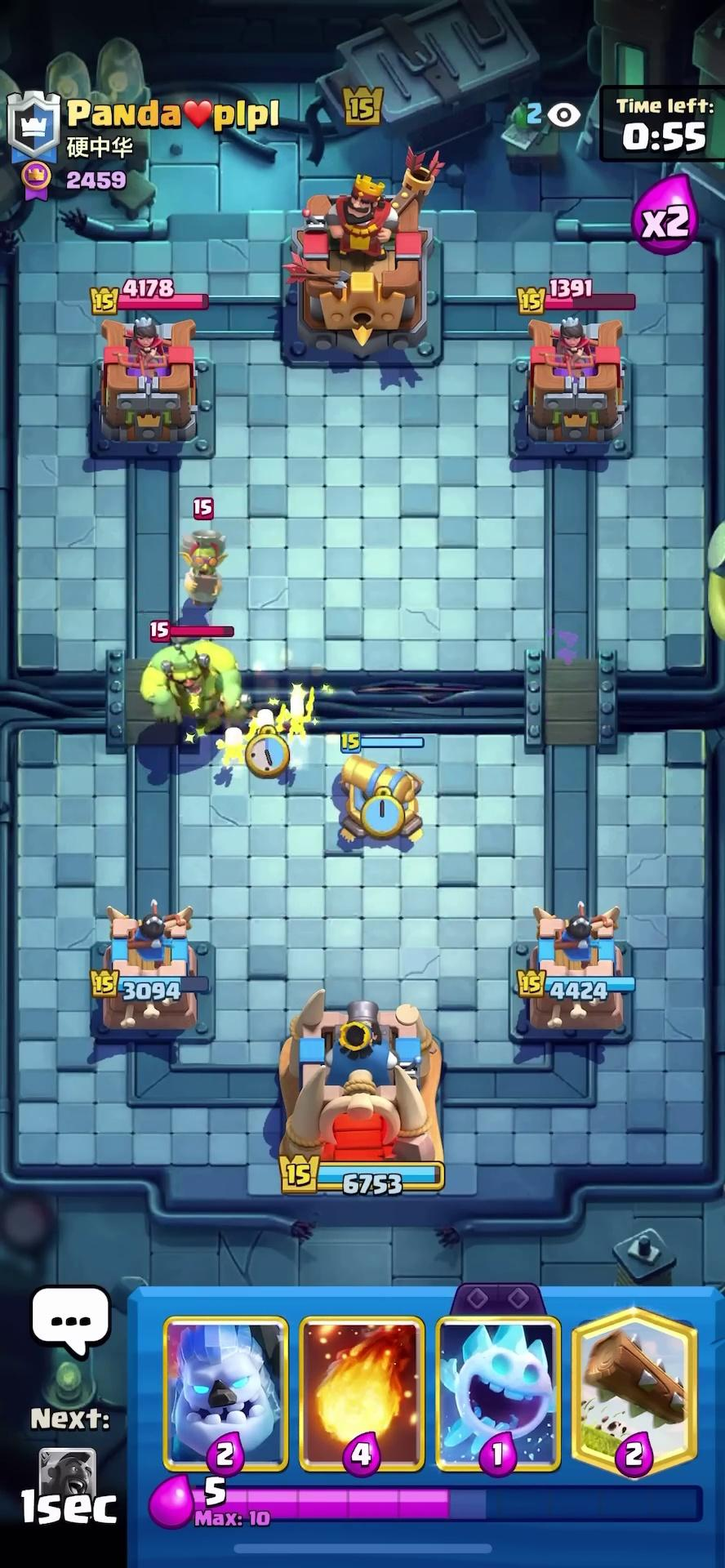cannon: (320, 729, 441, 858)
skeletons: (218, 692, 329, 757)
